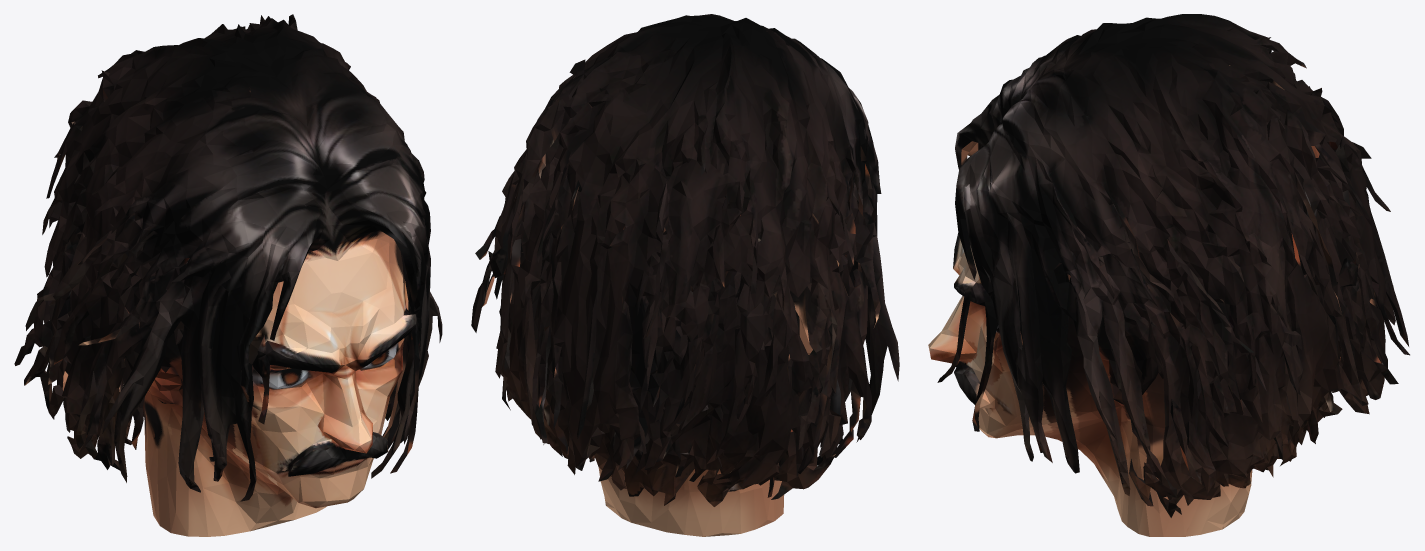
The model's file is side_quartermaster_repaired_atlas.glb.
The picture shows the model from 3 angles, left to right: view 1: azimuth 30°, elevation 25°; view 2: azimuth 150°, elevation 25°; view 3: azimuth 270°, elevation 25°; orthographic projection.
Visible parts, largest first — view 1: temp_mesh.ply; view 2: temp_mesh.ply; view 3: temp_mesh.ply.
Boxes of the visible parts, box(x1,y1,x2,y2) form: temp_mesh.ply: box(14, 14, 442, 536); temp_mesh.ply: box(471, 14, 899, 536); temp_mesh.ply: box(928, 14, 1409, 536).
Bounding box in the file's own units: 1.21 × 1.51 × 1.42.
1 material, 1 textured.
